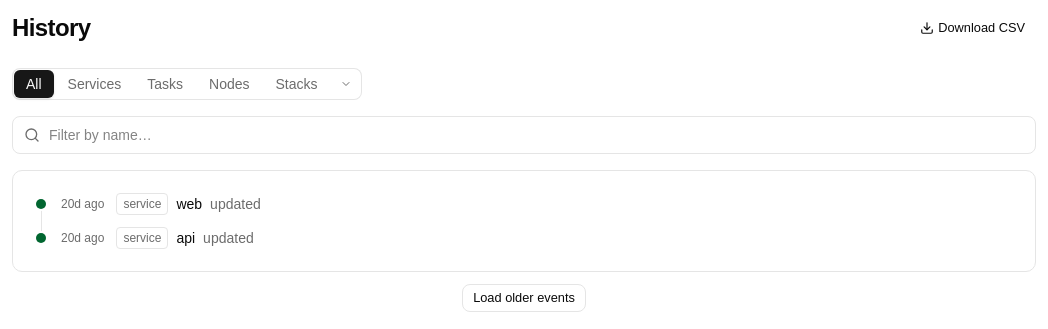
Test: History › loads older entries by following the next link
Click the button "Load older events": point(524, 298) [462, 284, 586, 312]
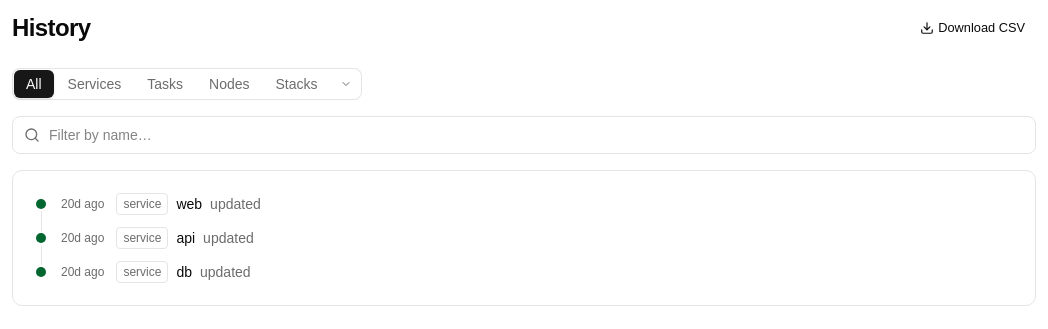
Expected: the link "web" is shown, [176, 194, 202, 214]
Expected: the link "db" is shown, [176, 262, 192, 282]
Expected: the button "Load older events" is gone
